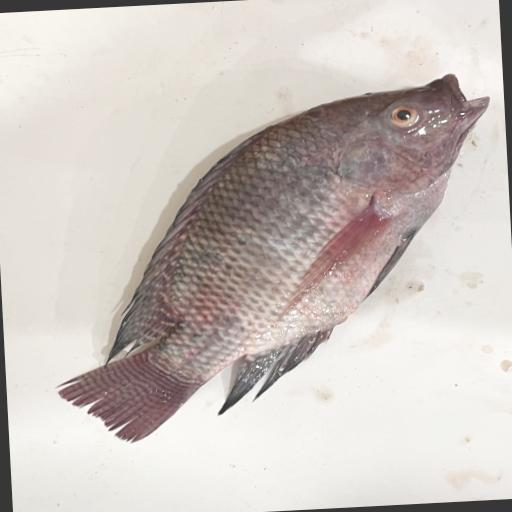Tilapia: (39, 72, 507, 448)
